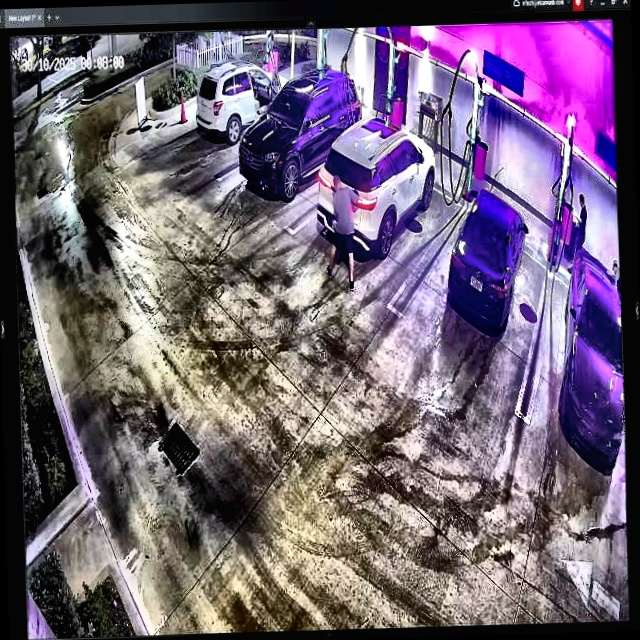Car: (235, 66, 364, 201), (317, 117, 439, 257), (446, 184, 530, 332), (194, 62, 288, 141)
